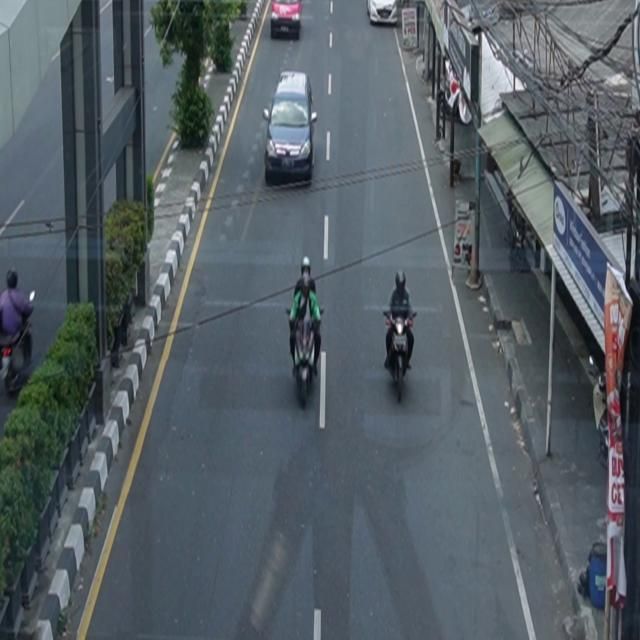car: (263, 71, 318, 185), (271, 1, 303, 40), (367, 1, 398, 26)
